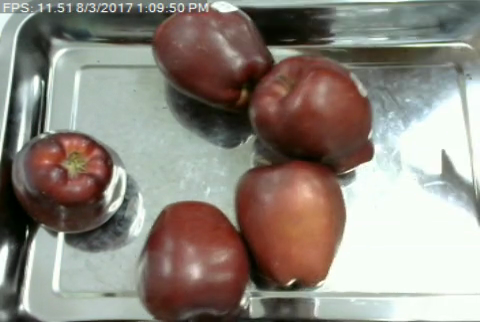Apple: (244, 52, 376, 178), (132, 195, 255, 322), (234, 158, 349, 291), (13, 125, 134, 241), (151, 2, 277, 109)
